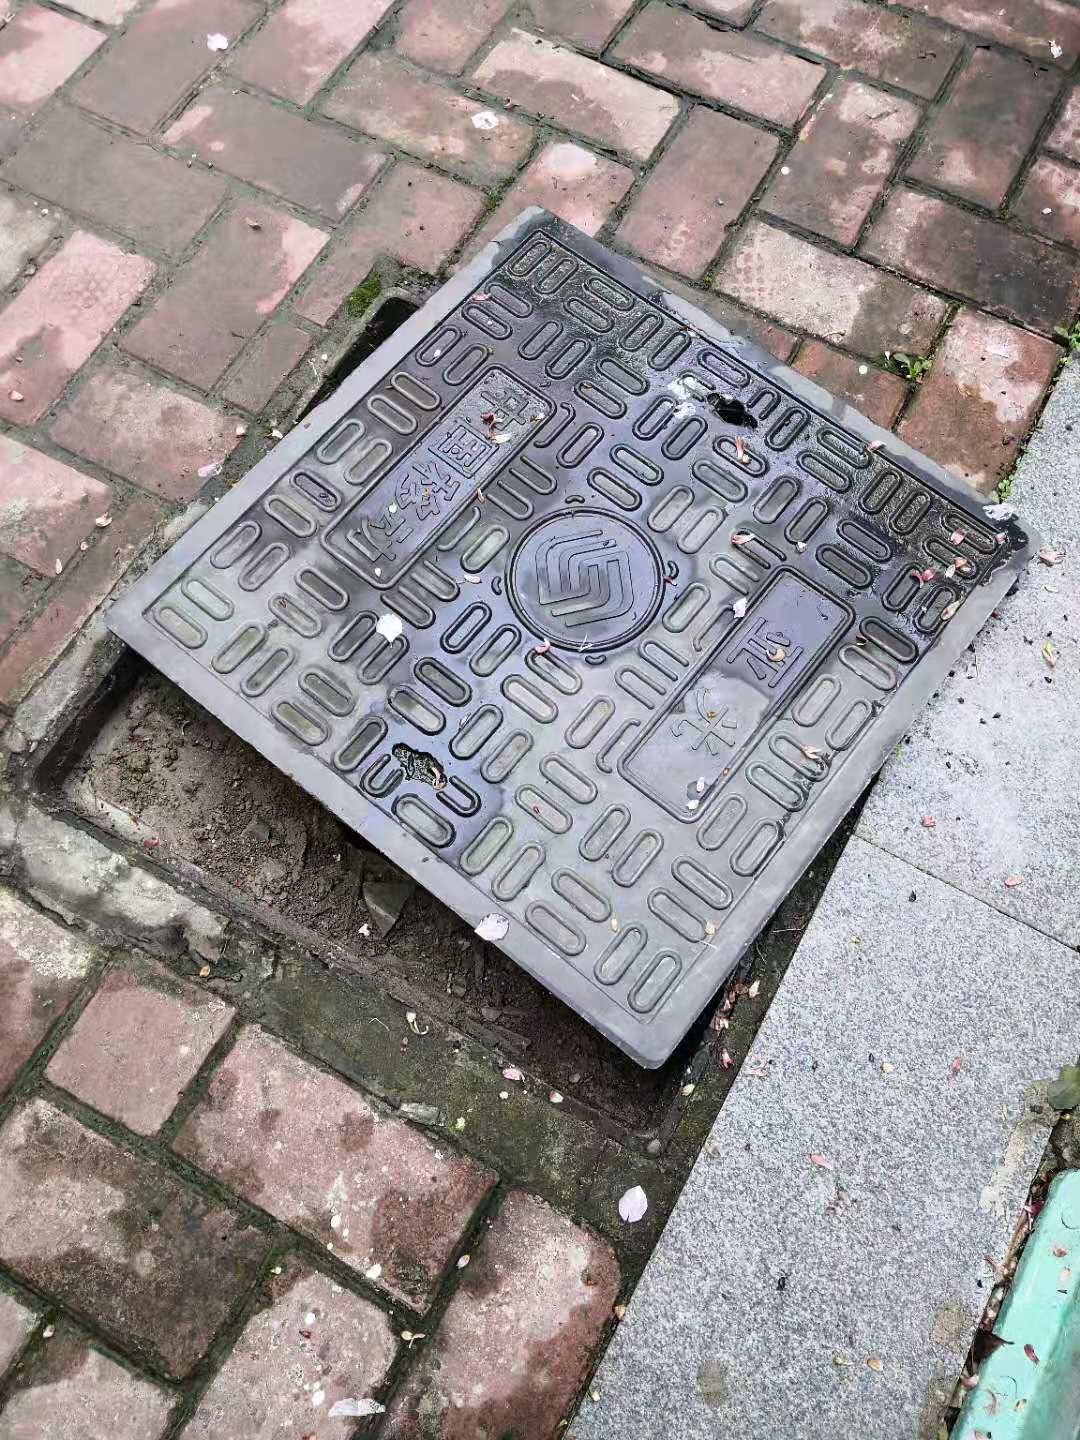uncovered: (6, 202, 1033, 1150)
